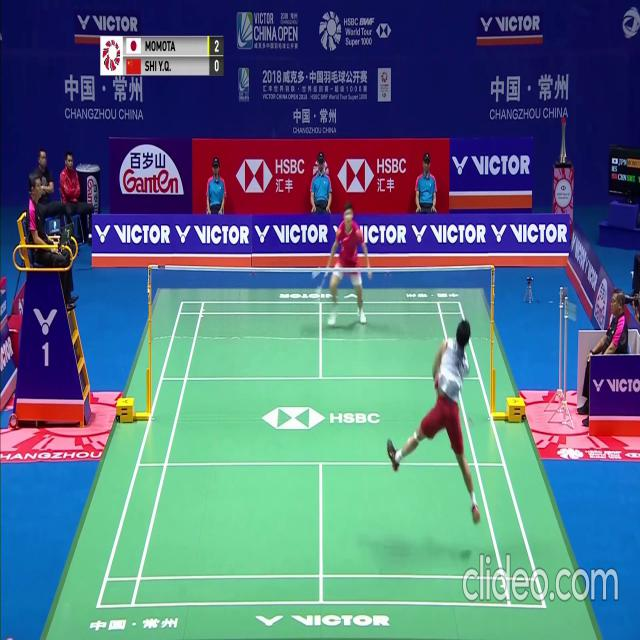Shuttlecock: (312, 272, 316, 279)
